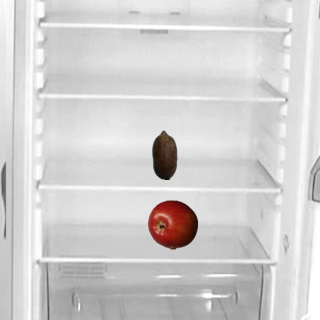Apple Braeburn: (147, 199, 197, 249)
Nut Pecan: (139, 129, 189, 179)
